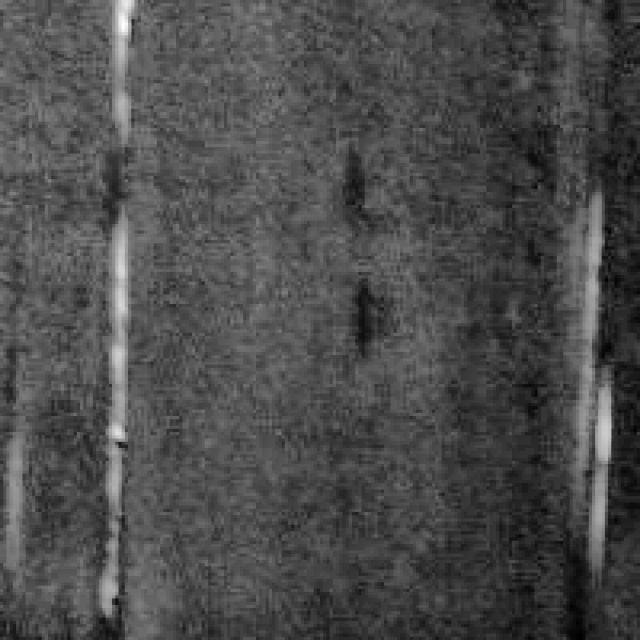Inclusion: (564, 192, 614, 573), (83, 214, 131, 596), (96, 0, 138, 131)
Patches: (333, 266, 381, 368)
